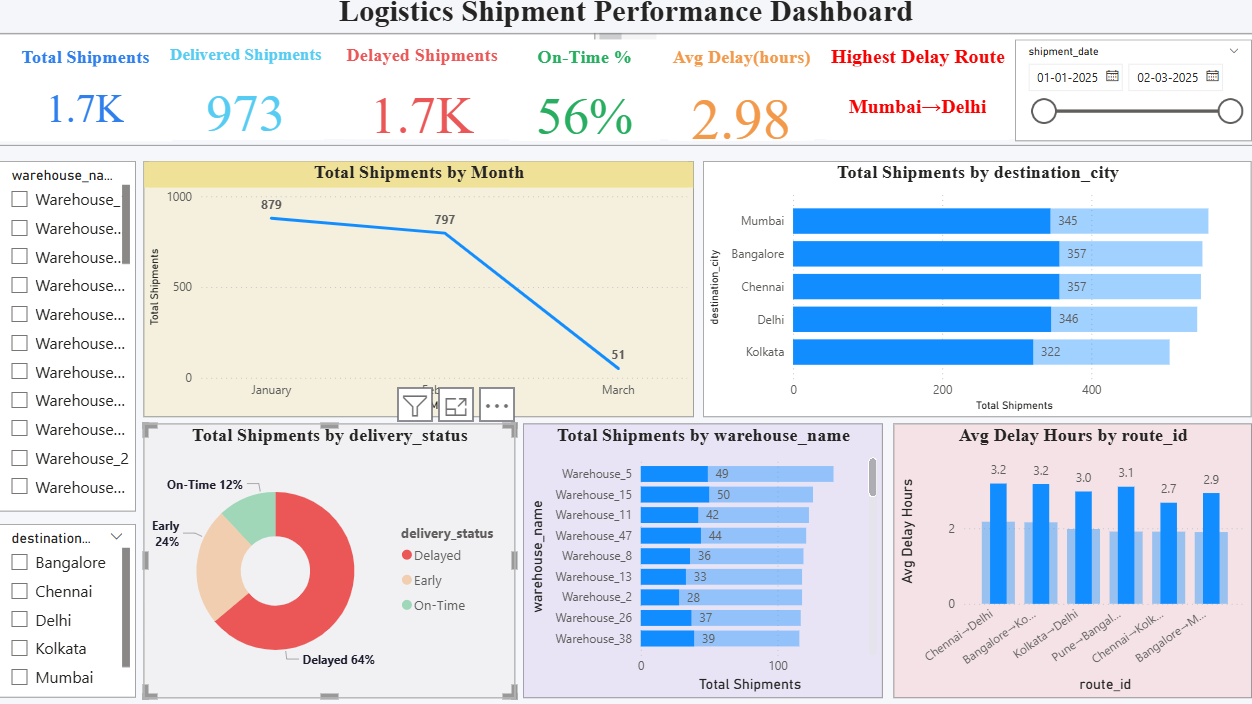

This screenshot's page, from the dashboard's own definition file:
{"tool":"powerbi","page":{"name":"Page 1","canvas":[1280,720],"ordinal":0},"visuals":[{"type":"cardVisual","box":[0,0,1279.4,52.4],"z":0},{"type":"lineChart","fields":{"Category":["dim_date.shipment_date.Variation.Date Hierarchy.Month"],"Y":["fact_logistics.Total Shipments"]},"box":[152.9,169.6,555.7,258.9],"z":2000},{"type":"donutChart","fields":{"Category":["fact_logistics.delivery_status"],"Y":["fact_logistics.Total Shipments"]},"box":[152.9,434.6,375.5,277.1],"z":3000},{"type":"barChart","fields":{"Y":["fact_logistics.Total Shipments"],"Category":["dim_warehouse.warehouse_name"]},"box":[536,434.6,363.4,277.1],"z":4000},{"type":"columnChart","fields":{"Y":["fact_logistics.Avg Delay Hours"],"Category":["fact_logistics.route_id"]},"box":[910,434.6,361.9,277.1],"z":5000},{"type":"barChart","fields":{"Category":["fact_logistics.destination_city"],"Y":["fact_logistics.Total Shipments"]},"box":[717.7,169.6,554.2,258.9],"z":6000},{"type":"cardVisual","title":"Logistics Shipment Performance Dashboard","fields":{"Data":["fact_logistics.Total Shipments"]},"box":[0,0,1278.8,40.9],"z":7000},{"type":"cardVisual","title":"Logistics Shipment Performance Dashboard","fields":{"Data":["fact_logistics.Total Shipments"]},"box":[0,40.9,1279.5,113.6],"z":7001},{"type":"cardVisual","title":"Total Shipments","fields":{"Data":["fact_logistics.Total Shipments"]},"box":[6.1,48.5,165,101.5],"z":7007},{"type":"cardVisual","title":"Delivered Shipments","fields":{"Data":["fact_logistics.Delivered Shipments"]},"box":[171.1,46.9,169.6,101.5],"z":7009},{"type":"cardVisual","title":"Delayed Shipments","fields":{"Data":["fact_logistics.Delayed Shipments"]},"box":[351.3,46.9,165,101.5],"z":7010},{"type":"cardVisual","title":"On-Time %","fields":{"Data":["fact_logistics.On-Time %"]},"box":[516.3,48.5,163.5,101.5],"z":7011},{"type":"cardVisual","title":"Avg Delay(hours)","fields":{"Data":["fact_logistics.Avg Delay Hours"]},"box":[676.8,48.5,159,101.5],"z":7012},{"type":"slicer","fields":{"Values":["dim_date.shipment_date"]},"box":[1032.7,46.9,239.2,103],"z":7013},{"type":"slicer","fields":{"Values":["dim_warehouse.warehouse_name"]},"box":[6.1,169.6,139.3,354.3],"z":7014},{"type":"slicer","fields":{"Values":["fact_logistics.destination_city"]},"box":[6.1,536,139.3,175.6],"z":7015},{"type":"cardVisual","title":"Highest Delay Route","fields":{"Data":["fact_logistics.Highest Delay Route"]},"box":[835.8,46.9,196.8,101.5],"z":7016}]}

Visuals, with their boxes in screenshot pixels (x1, y1, x2, y2), scaled from the page's 1280x720 canvas onto the 1252x704 screenshot:
cardVisual: [0, 0, 1251, 51]
lineChart - dim_date.shipment_date.Variation.Date Hierarchy.Month x fact_logistics.Total Shipments: [150, 166, 693, 419]
donutChart - fact_logistics.delivery_status x fact_logistics.Total Shipments: [150, 425, 517, 696]
barChart - fact_logistics.Total Shipments x dim_warehouse.warehouse_name: [524, 425, 880, 696]
columnChart - fact_logistics.Avg Delay Hours x fact_logistics.route_id: [890, 425, 1244, 696]
barChart - fact_logistics.destination_city x fact_logistics.Total Shipments: [702, 166, 1244, 419]
"Logistics Shipment Performance Dashboard" cardVisual: [0, 0, 1251, 40]
"Logistics Shipment Performance Dashboard" cardVisual: [0, 40, 1251, 151]
"Total Shipments" cardVisual: [6, 47, 167, 147]
"Delivered Shipments" cardVisual: [167, 46, 333, 145]
"Delayed Shipments" cardVisual: [344, 46, 505, 145]
"On-Time %" cardVisual: [505, 47, 665, 147]
"Avg Delay(hours)" cardVisual: [662, 47, 818, 147]
slicer - dim_date.shipment_date: [1010, 46, 1244, 147]
slicer - dim_warehouse.warehouse_name: [6, 166, 142, 512]
slicer - fact_logistics.destination_city: [6, 524, 142, 696]
"Highest Delay Route" cardVisual: [818, 46, 1010, 145]
